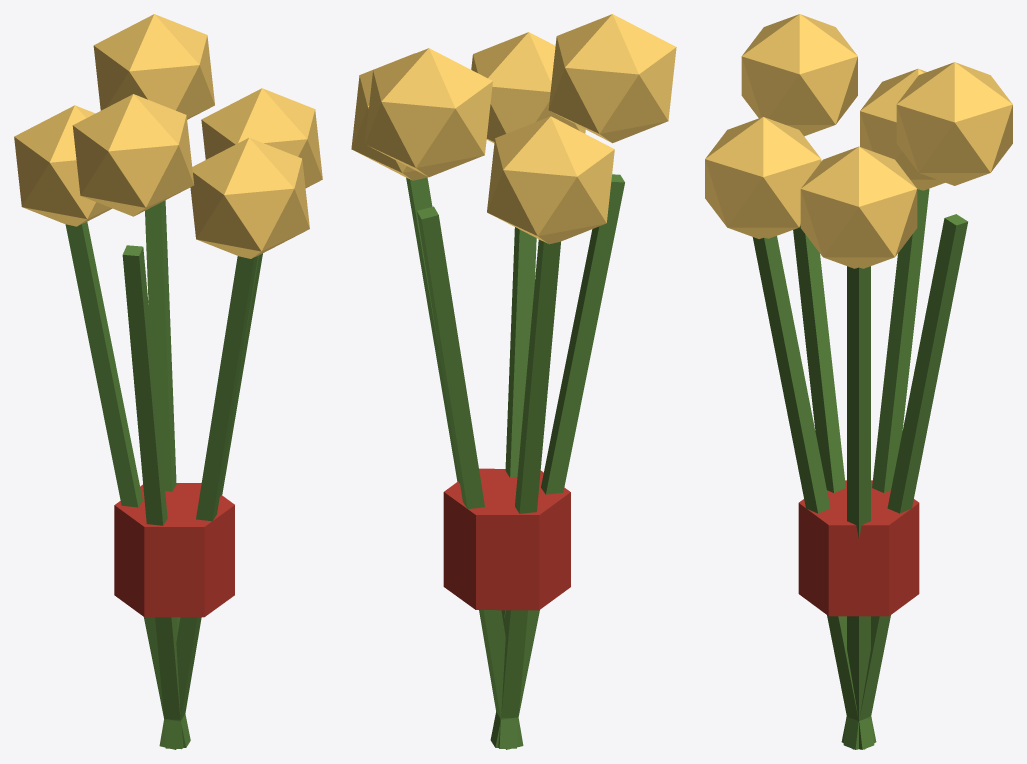
Rendered from DandylionBundle.fbx.
The picture shows the model from 3 angles, left to right: view 1: azimuth 30°, elevation 25°; view 2: azimuth 150°, elevation 25°; view 3: azimuth 270°, elevation 25°; orthographic projection. The views are drawn at different scales.
Visible parts, largest first — view 1: DandylionBundle; view 2: DandylionBundle; view 3: DandylionBundle.
Part boxes in pixels (left/top/right/bottom): DandylionBundle: left=14, top=14, right=322, bottom=749; DandylionBundle: left=351, top=14, right=676, bottom=749; DandylionBundle: left=705, top=14, right=1012, bottom=749.
Size of the model in its own units: 0.8 by 2 by 0.8.
